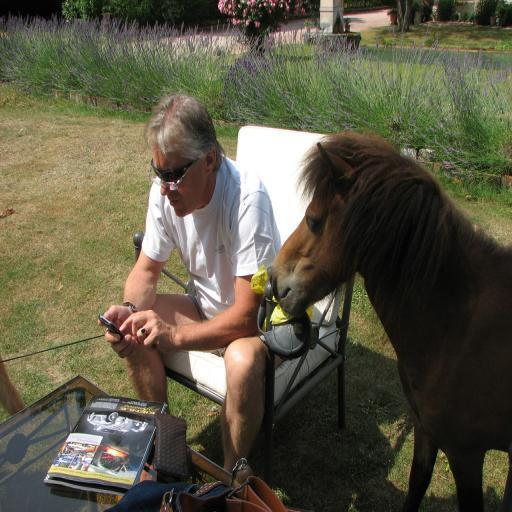horse: (268, 124, 512, 512)
